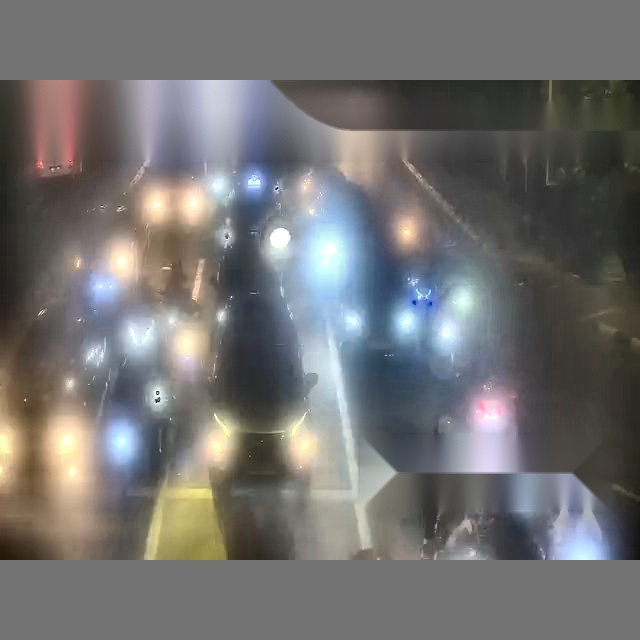Mobil: (101, 302, 175, 506)
Motor: (168, 308, 208, 387)
